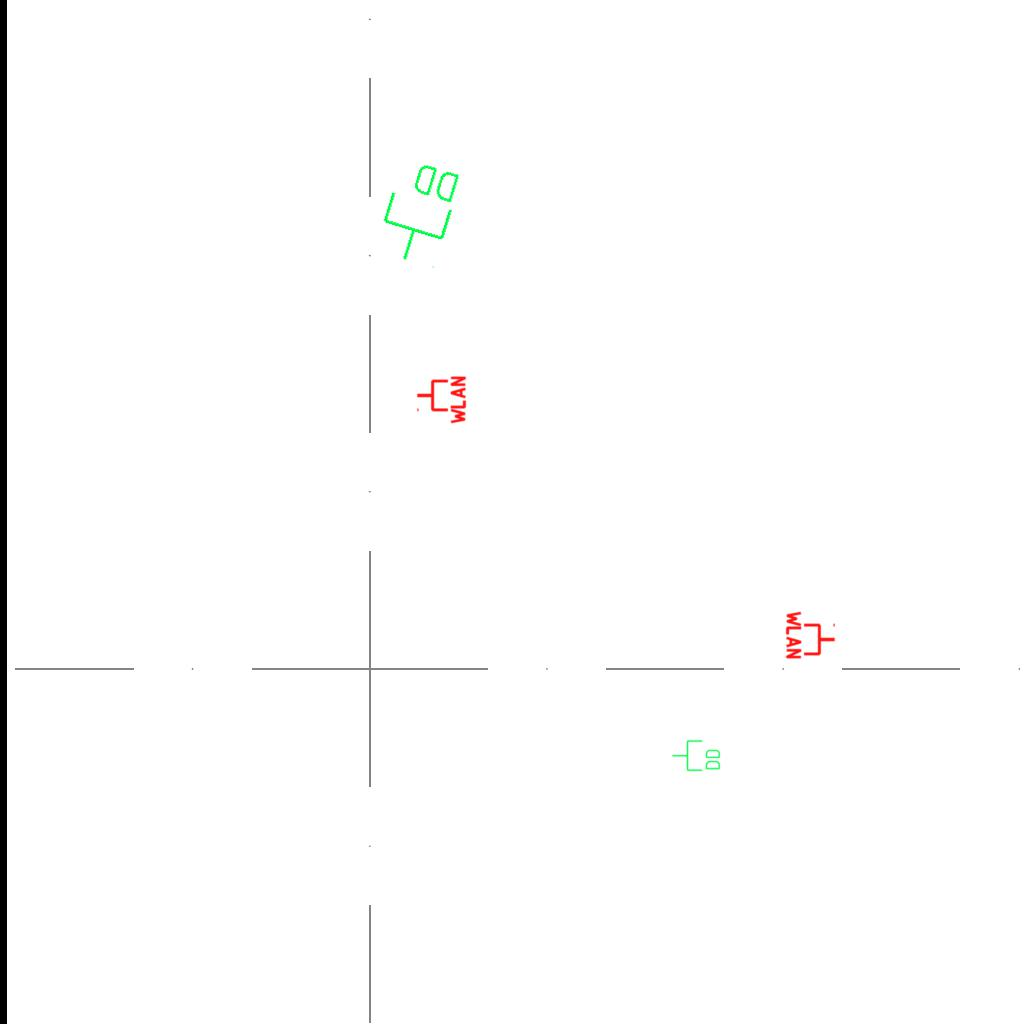Datenanschluss_zweifach: (371, 153, 468, 272), (671, 739, 722, 773)
WLAN: (785, 609, 837, 661), (415, 374, 467, 426)
